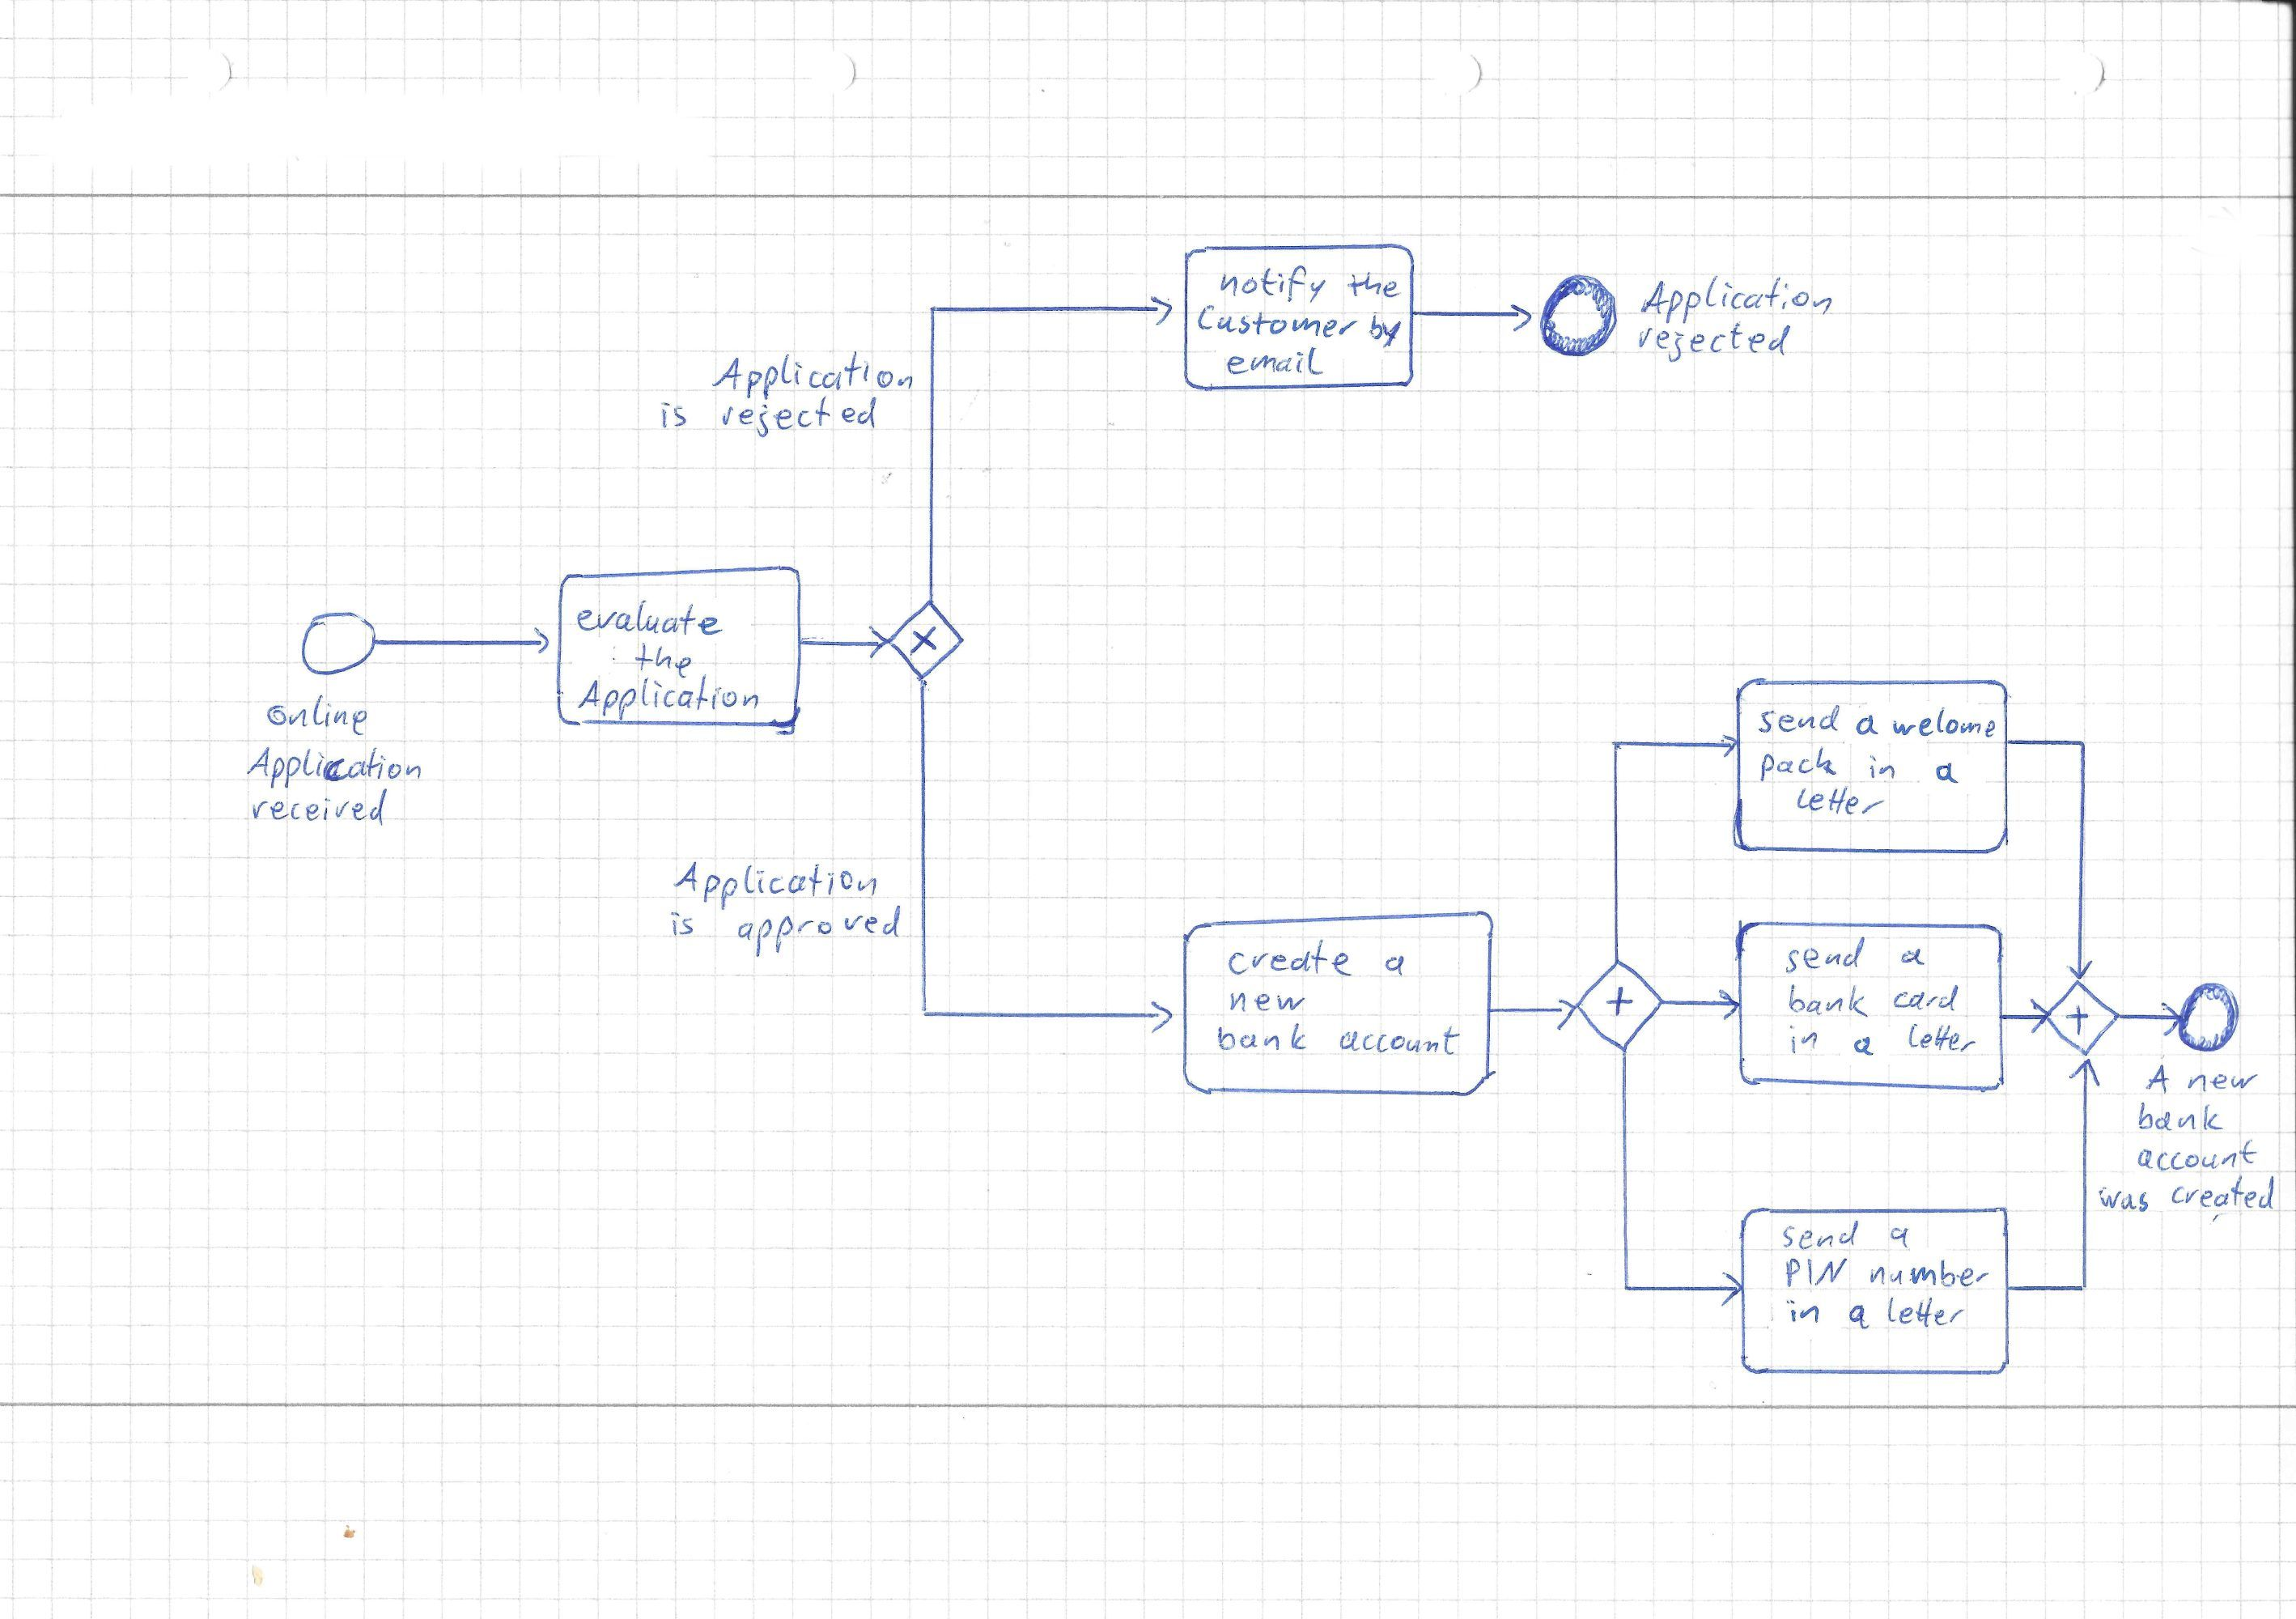A: (2131, 1057, 2184, 1097)
Application: (704, 347, 923, 399), (1630, 272, 1837, 326), (667, 855, 881, 904), (243, 739, 427, 794), (573, 675, 764, 717)
PIN: (1774, 1255, 1860, 1291)
a: (1842, 1027, 1890, 1065), (1891, 939, 1937, 976), (1839, 1297, 1879, 1337), (1849, 706, 1884, 745), (1380, 946, 1410, 983), (1884, 1220, 1916, 1253), (1930, 755, 1958, 792)
account: (2133, 1135, 2264, 1176), (1335, 1022, 1461, 1058)
approved: (734, 902, 907, 960)
bank: (1774, 978, 1883, 1020), (2130, 1099, 2228, 1144), (1196, 1023, 1322, 1057)
by: (1366, 312, 1403, 349)
card: (1884, 979, 1963, 1020)
create: (1207, 934, 1375, 981)
created: (2168, 1172, 2285, 1214)
customer: (1194, 303, 1363, 345)
email: (1224, 342, 1326, 384)
evaluate: (576, 597, 727, 640)
in: (1855, 752, 1912, 788), (1779, 1022, 1834, 1060), (1779, 1297, 1835, 1332)
is: (662, 906, 706, 948), (651, 398, 697, 436)
letter: (1786, 783, 1890, 820), (1879, 1291, 1972, 1332), (1900, 1018, 1981, 1064)
new: (2180, 1065, 2271, 1102), (1221, 986, 1310, 1016)
notify: (1210, 265, 1335, 307)
number: (1858, 1256, 1993, 1291)
online: (261, 687, 385, 736)
pack: (1753, 741, 1849, 785)
received: (245, 788, 392, 829)
rejected: (1629, 321, 1799, 366), (715, 394, 884, 436)
send: (1778, 934, 1879, 976), (1751, 701, 1855, 741), (1769, 1221, 1872, 1255)
the: (627, 640, 697, 682), (1340, 266, 1406, 305)
was: (2095, 1181, 2158, 1223)
welome: (1890, 704, 1997, 746)
